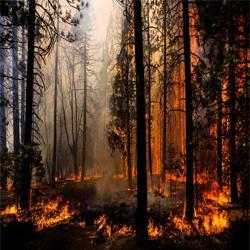fire: (33, 201, 71, 223), (206, 182, 229, 207), (196, 213, 224, 233)
